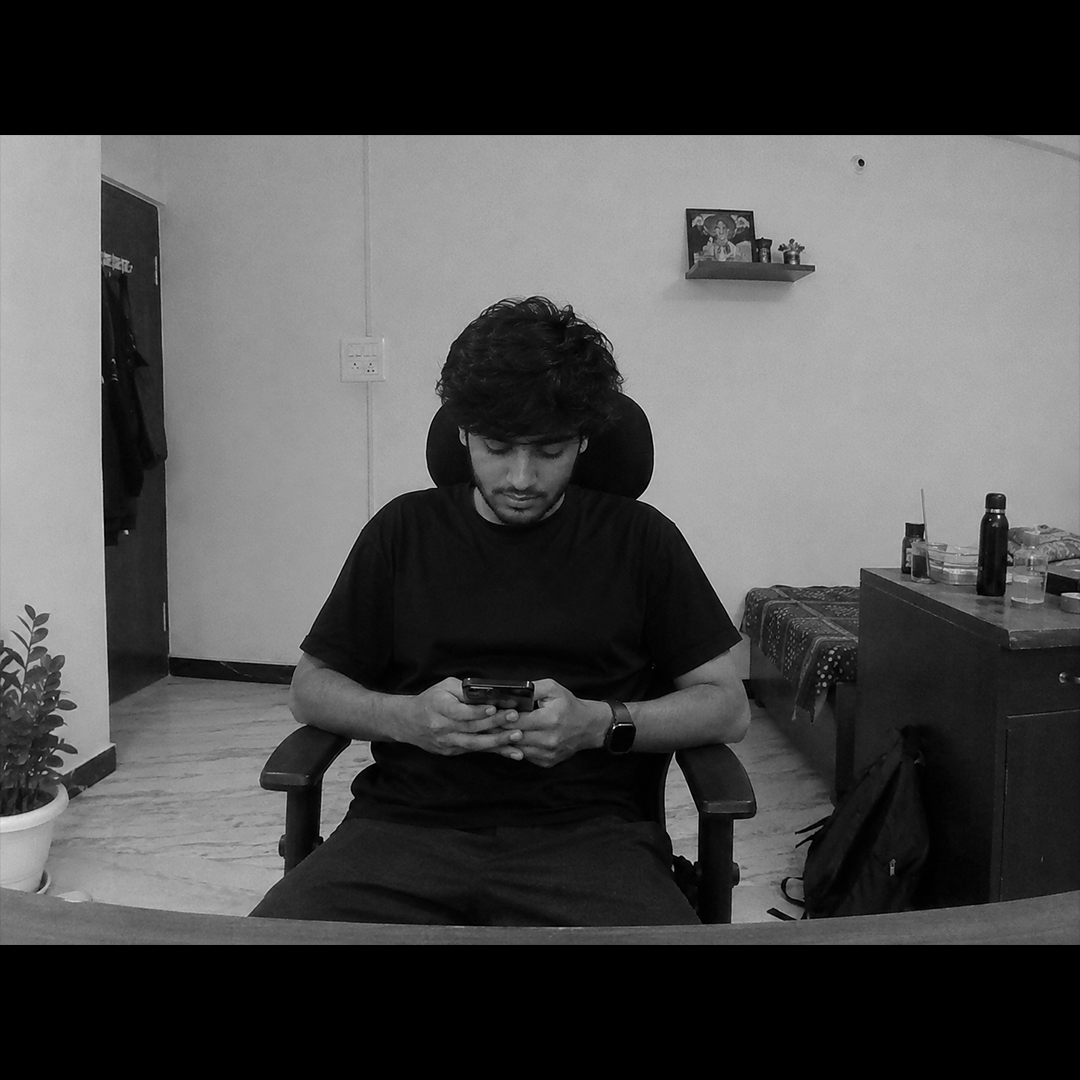distracted: (357, 302, 683, 776)
